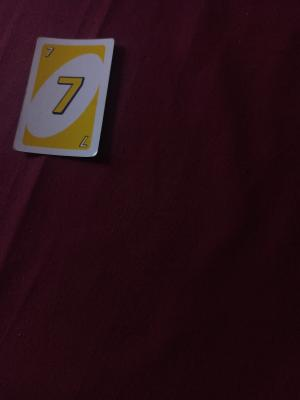num_7: (50, 67, 88, 122), (59, 131, 93, 153), (58, 42, 97, 61)
